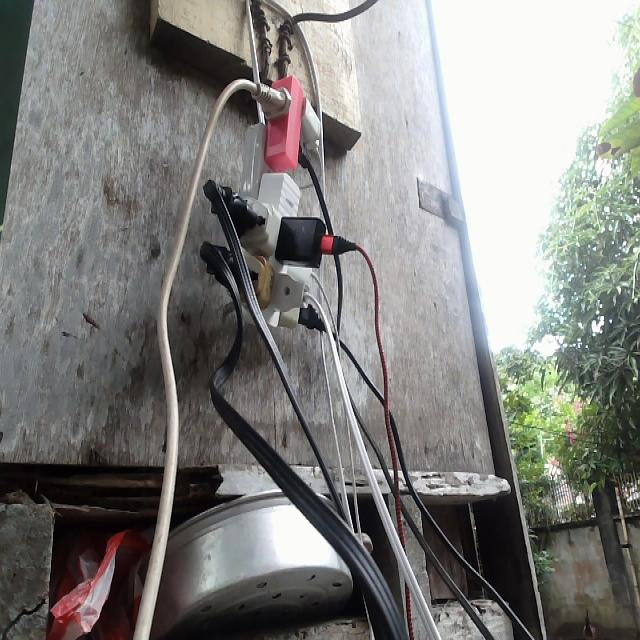-: (202, 75, 360, 333)
